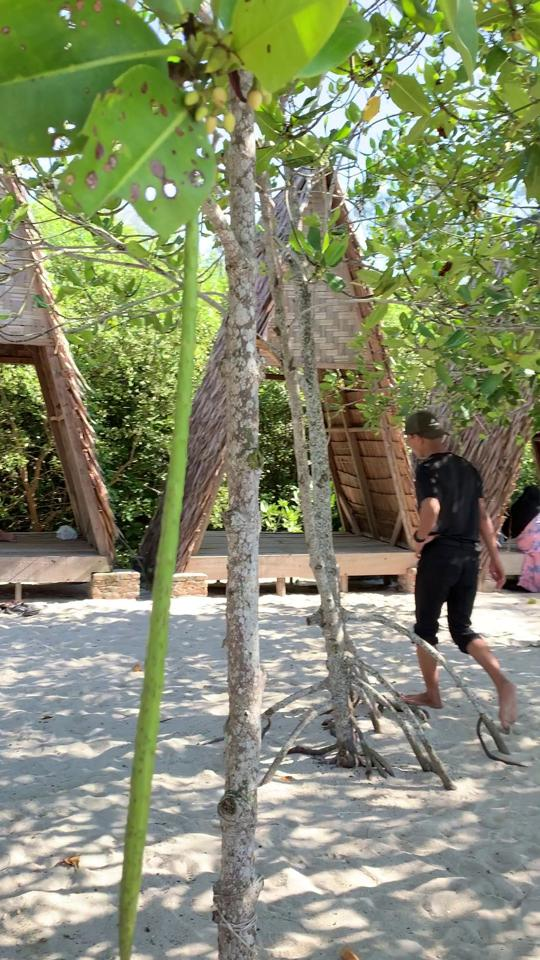mentah: (91, 79, 223, 958)
